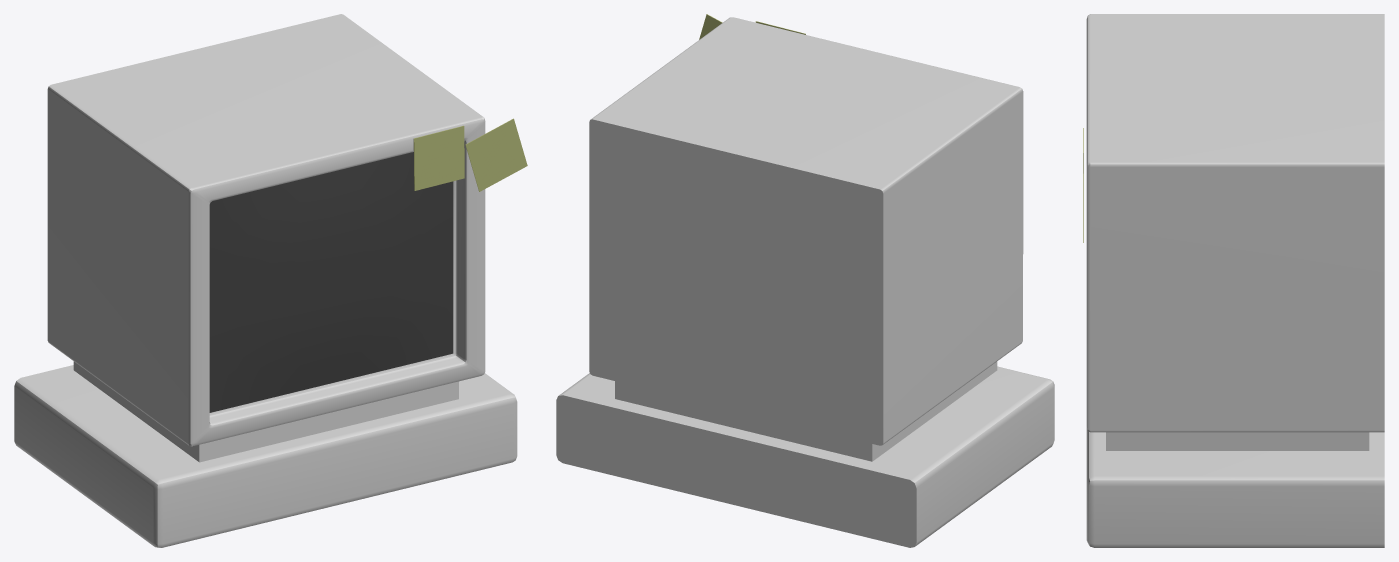
File: COMPUTER.fbx
The picture shows the model from 3 angles, left to right: view 1: azimuth 30°, elevation 25°; view 2: azimuth 150°, elevation 25°; view 3: azimuth 270°, elevation 25°; orthographic projection. The views are drawn at different scales.
Parts seen in each view (by area): view 1: polySurface3, polySurface4, pCube3, pCube225, pCube167; view 2: polySurface3, pCube3; view 3: polySurface3, pCube3.
Boxes of the visible parts, x1,y1,x2,y2 form: polySurface3: (47,14,485,462); polySurface4: (209,152,453,412); pCube3: (14,365,517,547); pCube225: (413,125,464,190); pCube167: (465,118,527,191); polySurface3: (589,17,1023,461); pCube3: (556,366,1054,547); polySurface3: (1086,14,1384,450); pCube3: (1086,428,1384,547).
Size of the model in its own units: 2.59 by 2.38 by 1.75.
